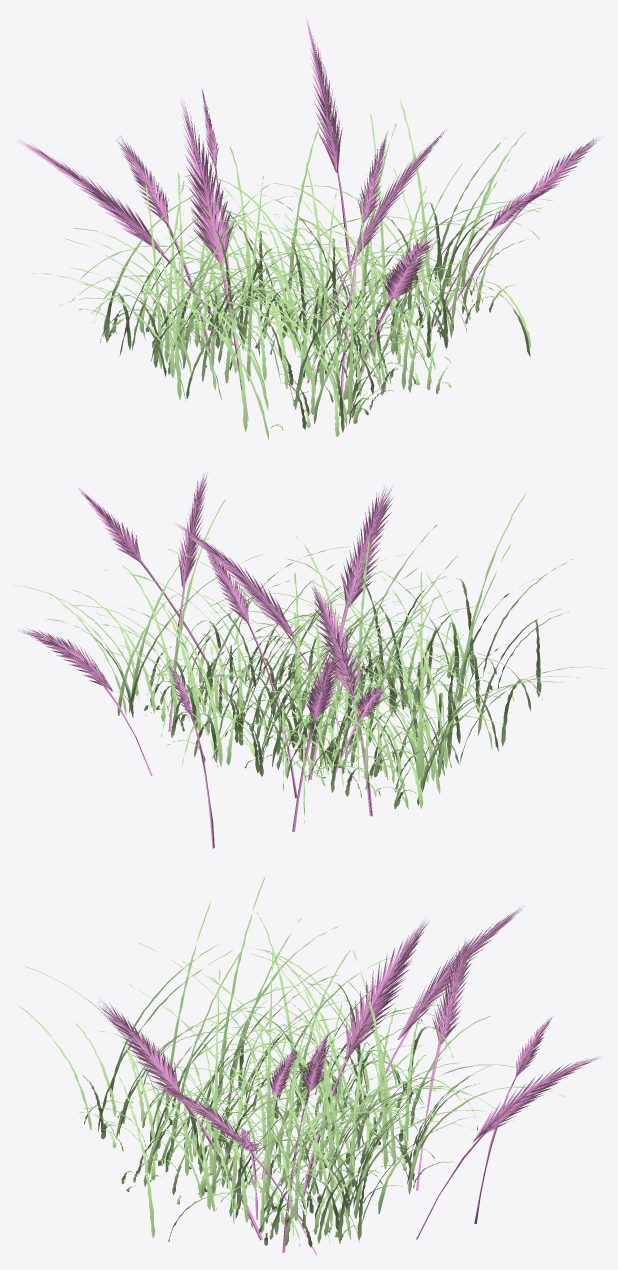
File: guanmu2.obj
The picture shows the model from 3 angles, top to bottom: view 1: azimuth 30°, elevation 25°; view 2: azimuth 150°, elevation 25°; view 3: azimuth 270°, elevation 25°; orthographic projection.
Parts seen in each view (by area): view 1: Grass_O_matic01, Object04, Cylinder01, Cylinder12, Cylinder09, Cylinder08, Cylinder11, Cylinder06, Cylinder04, Cylinder07, Cylinder10, Cylinder05; view 2: Grass_O_matic01, Object04, Cylinder08, Cylinder01, Cylinder11, Cylinder06, Cylinder12, Cylinder10, Cylinder04, Cylinder07, Cylinder05, Cylinder09; view 3: Grass_O_matic01, Object04, Cylinder01, Cylinder08, Cylinder12, Cylinder06, Cylinder09, Cylinder10, Cylinder04, Cylinder05, Cylinder11.
Boxes of the visible parts, x1,y1,x2,y2 form: Grass_O_matic01: (145, 98, 554, 437); Object04: (32, 117, 430, 440); Cylinder01: (180, 99, 248, 420); Cylinder12: (306, 17, 352, 291); Cylinder09: (19, 140, 234, 345); Cylinder08: (346, 237, 434, 414); Cylinder11: (307, 130, 445, 383); Cylinder06: (116, 136, 211, 353); Cylinder04: (339, 132, 387, 416); Cylinder07: (437, 137, 599, 332); Cylinder10: (433, 184, 559, 326); Cylinder05: (201, 88, 232, 301); Grass_O_matic01: (14, 492, 573, 790); Object04: (118, 544, 603, 823); Cylinder08: (308, 485, 394, 779); Cylinder01: (311, 586, 372, 816); Cylinder11: (174, 522, 349, 746); Cylinder06: (292, 652, 341, 831); Cylinder12: (19, 629, 152, 775); Cylinder10: (168, 474, 207, 731); Cylinder04: (204, 546, 296, 798); Cylinder07: (78, 488, 223, 693); Cylinder05: (168, 664, 214, 848); Cylinder09: (335, 686, 383, 773); Grass_O_matic01: (14, 901, 514, 1247); Object04: (98, 877, 564, 1213); Cylinder01: (300, 918, 430, 1201); Cylinder08: (97, 999, 262, 1240); Cylinder12: (416, 1057, 598, 1239); Cylinder06: (416, 940, 472, 1190); Cylinder09: (355, 906, 523, 1148); Cylinder10: (155, 1084, 316, 1255); Cylinder04: (282, 1032, 329, 1252); Cylinder05: (474, 1017, 552, 1223); Cylinder11: (261, 1051, 298, 1178).
Bounding box in the file's own units: 4.84 × 2.5 × 4.55.
